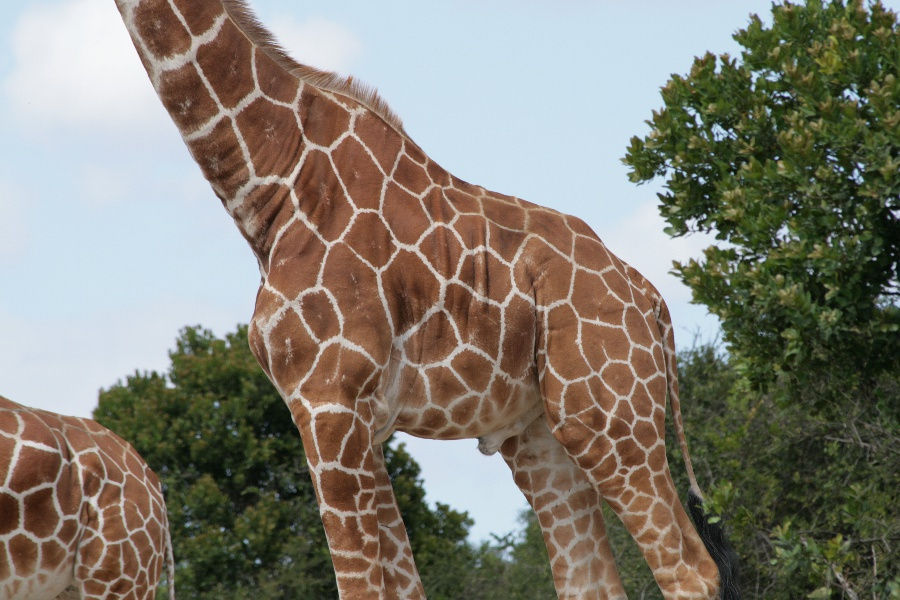giraffe: (114, 0, 750, 598), (0, 384, 180, 598)
